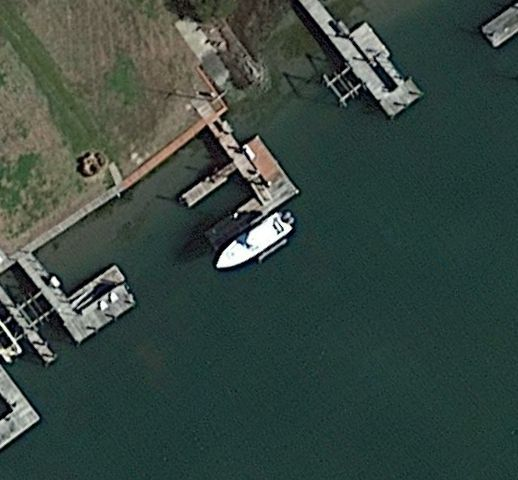boat: (212, 211, 294, 275)
